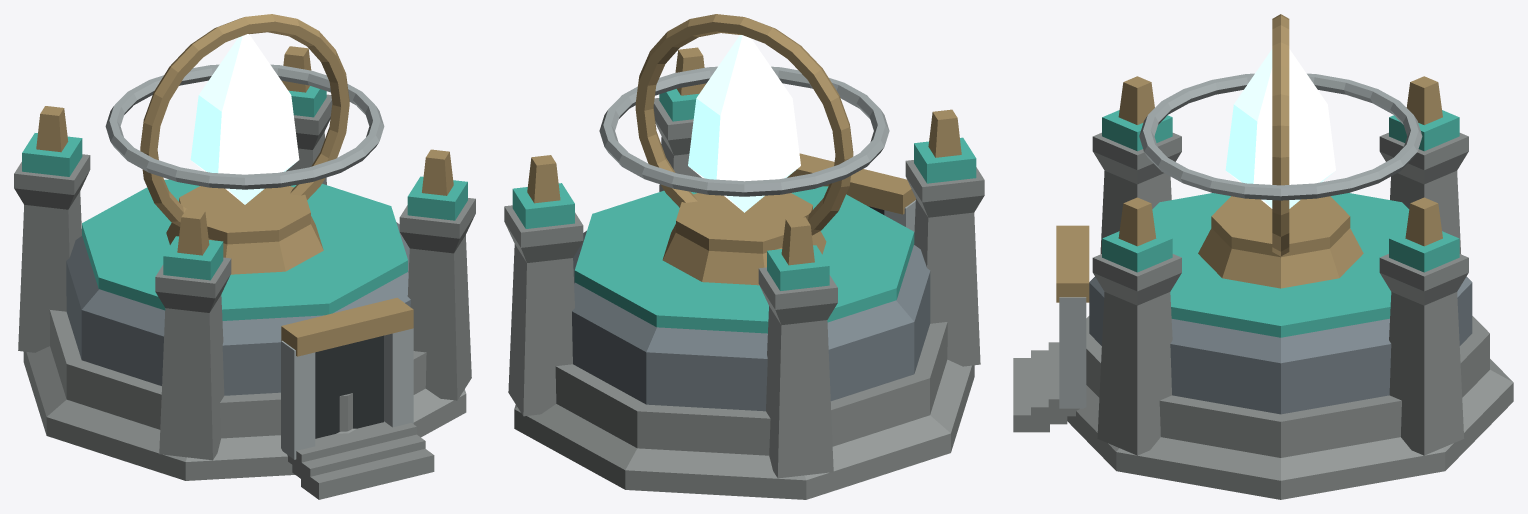
The model's file is building-elemental-core.glb.
3 renders of one model, left to right at view 1: azimuth 30°, elevation 25°; view 2: azimuth 150°, elevation 25°; view 3: azimuth 270°, elevation 25°, orthographic. The views are drawn at different scales.
Parts seen in each view (by area): view 1: Body, Orbit, Reactor; view 2: Body, Orbit, Reactor; view 3: Body, Orbit, Reactor.
Boxes of the visible parts, left/top/right/bottom form: Body: left=14, top=46, right=475, bottom=499; Orbit: left=105, top=14, right=384, bottom=226; Reactor: left=190, top=34, right=299, bottom=204; Body: left=504, top=47, right=984, bottom=499; Orbit: left=599, top=14, right=889, bottom=235; Reactor: left=688, top=35, right=800, bottom=212; Body: left=1013, top=76, right=1513, bottom=499; Orbit: left=1139, top=14, right=1422, bottom=256; Reactor: left=1225, top=49, right=1335, bottom=208.
Size of the model in its own units: 3.96 by 3.55 by 4.26.
